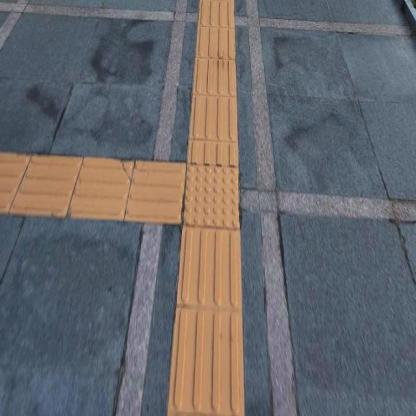podotacti: (158, 117, 269, 279), (159, 229, 248, 415), (0, 149, 179, 224), (189, 0, 241, 160)
